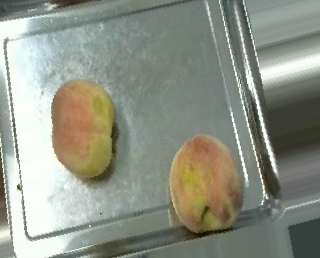Peach: (168, 133, 243, 234), (50, 78, 116, 178)
